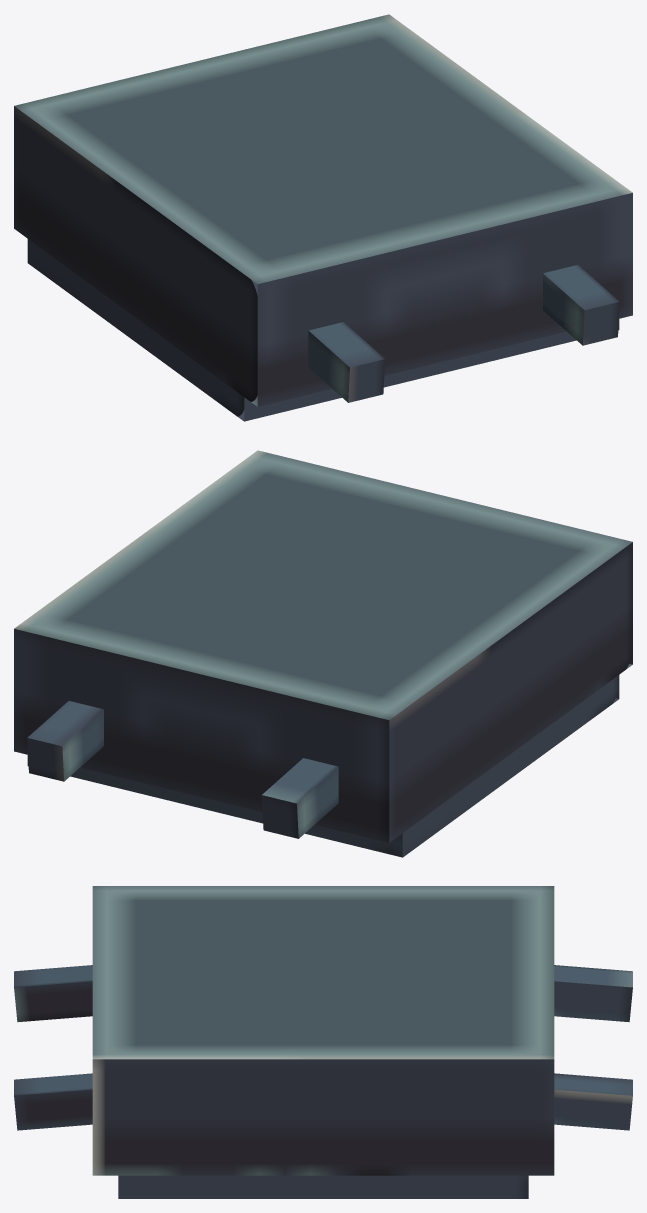
Rendered from gc220ii_vent_2.obj.
3 views of the same model, one above another, from view 1: azimuth 30°, elevation 25°; view 2: azimuth 150°, elevation 25°; view 3: azimuth 270°, elevation 25° (orthographic). The views are drawn at different scales.
Visible parts, largest first — view 1: gc220ii_vent_2; view 2: gc220ii_vent_2; view 3: gc220ii_vent_2.
Part boxes in pixels (x1,y1,x2,y2): gc220ii_vent_2: (14,14,632,421); gc220ii_vent_2: (14,450,632,857); gc220ii_vent_2: (14,886,632,1198).
Size of the model in its own units: 1 by 0.375 by 1.51.
